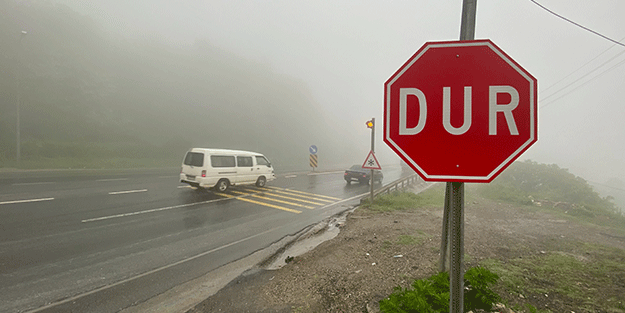dur: (377, 40, 543, 182)
otomobil: (171, 140, 287, 198)
